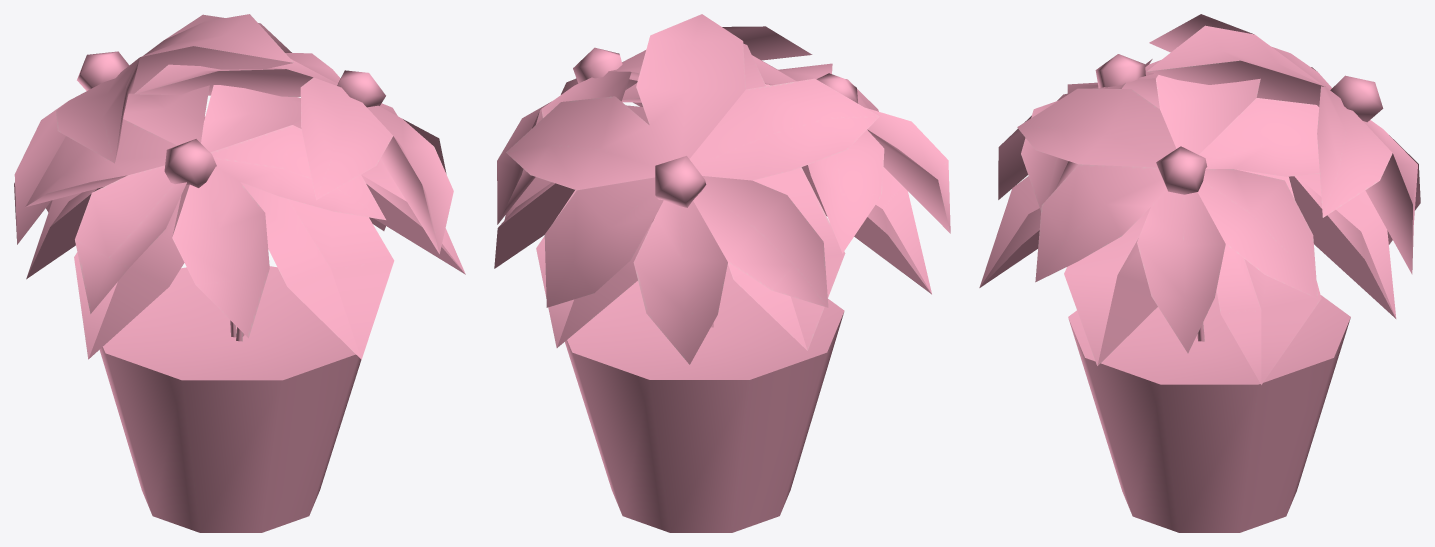
The model's file is Pink Aralia Plant.glb.
The picture shows the model from 3 angles, left to right: view 1: azimuth 30°, elevation 25°; view 2: azimuth 150°, elevation 25°; view 3: azimuth 270°, elevation 25°; orthographic projection. The views are drawn at different scales.
Parts seen in each view (by area): view 1: node_id241, node_id245, node_id239, node_id243; view 2: node_id241, node_id245, node_id239, node_id243; view 3: node_id241, node_id245, node_id239, node_id243.
Part boxes in pixels (left/top/right/bottom): node_id241: left=14, top=14, right=453, bottom=338; node_id245: left=99, top=266, right=361, bottom=532; node_id239: left=26, top=117, right=465, bottom=359; node_id243: left=77, top=51, right=385, bottom=187; node_id241: left=497, top=14, right=950, bottom=364; node_id245: left=565, top=264, right=844, bottom=532; node_id239: left=494, top=105, right=931, bottom=350; node_id243: left=573, top=47, right=858, bottom=207; node_id241: left=998, top=14, right=1420, bottom=353; node_id245: left=1068, top=290, right=1350, bottom=532; node_id239: left=979, top=169, right=1396, bottom=384; node_id243: left=1095, top=54, right=1383, bottom=194.
Bounding box in the file's own units: 0.2594 × 0.2962 × 0.2612.
4 materials, 4 textured.
